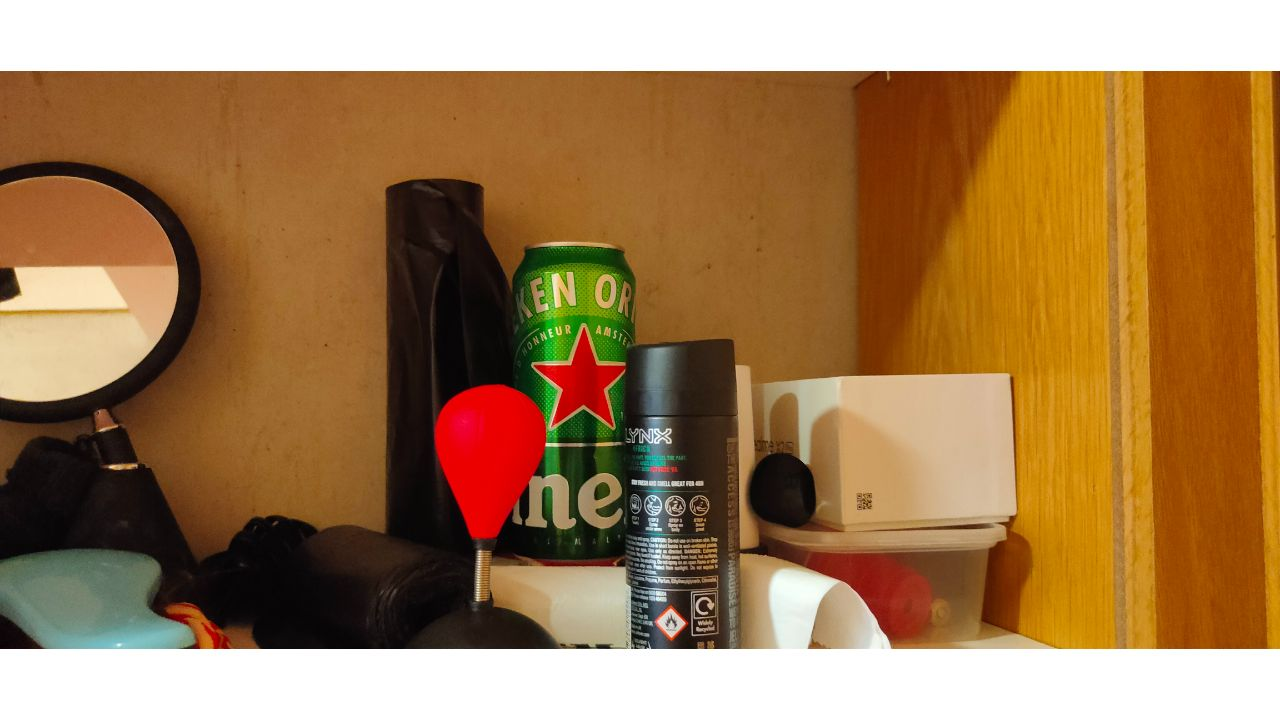Can: (511, 242, 637, 565)
